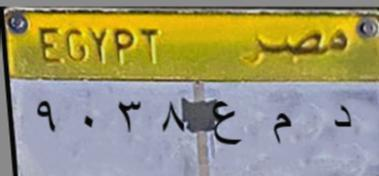0: (80, 109, 97, 133)
3: (114, 93, 145, 141)
8: (155, 96, 186, 140)
9: (31, 97, 60, 140)
ain: (208, 98, 243, 152)
daal: (324, 99, 356, 140)
meem: (266, 109, 297, 150)
